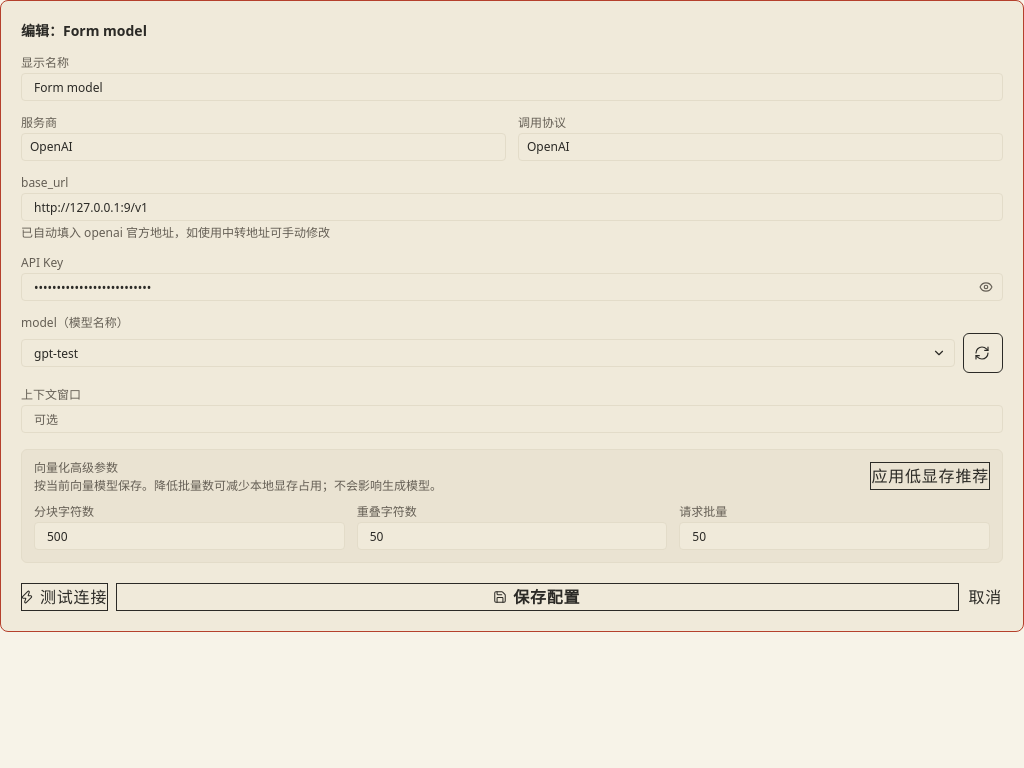
Scenario: model connection test result (#484) › keeps an embedding HTTP 402 diagnostic visible beyond three seconds, then clears it when the model changes
Click the button "测试连接".
click(65, 597)  # box x1=21 y1=583 x2=108 y2=611
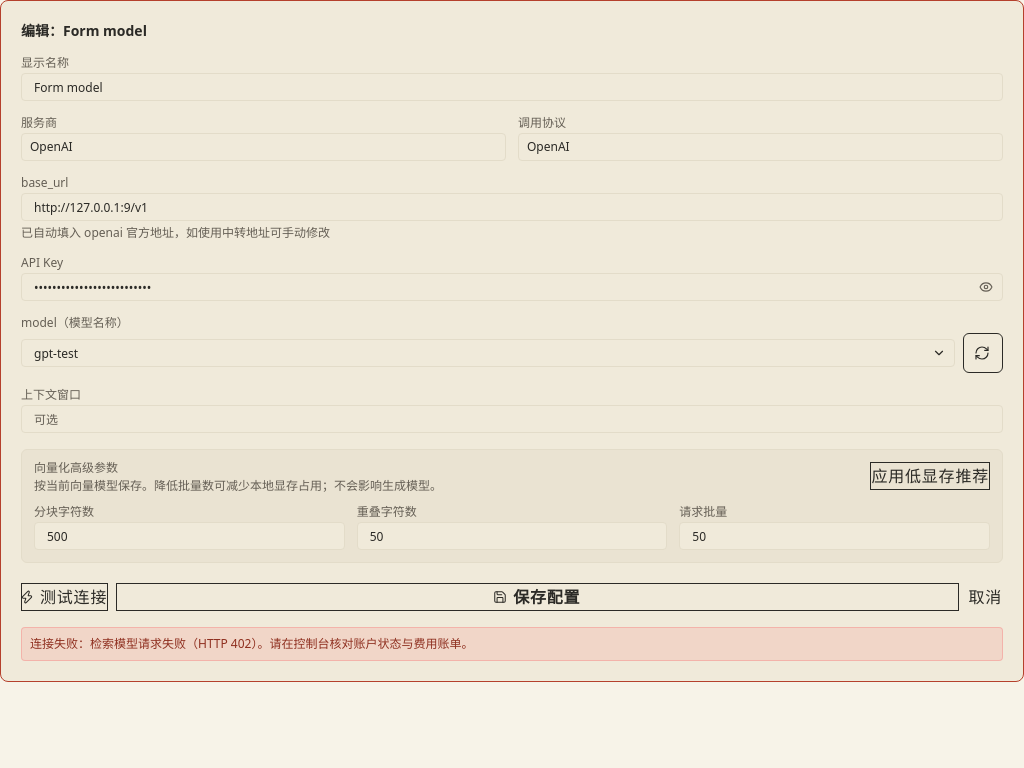
Now the text "连接失败：检索模型请求失败（HTTP 402）。请在控制台核对账户状态与费用账单。" is shown, box x1=21 y1=627 x2=1003 y2=661
Replace the text in the dropdown with placeholder "从列表选择，或直接输入模型名称" with "different-embedding-model" at (488, 353), box x1=21 y1=339 x2=955 y2=367
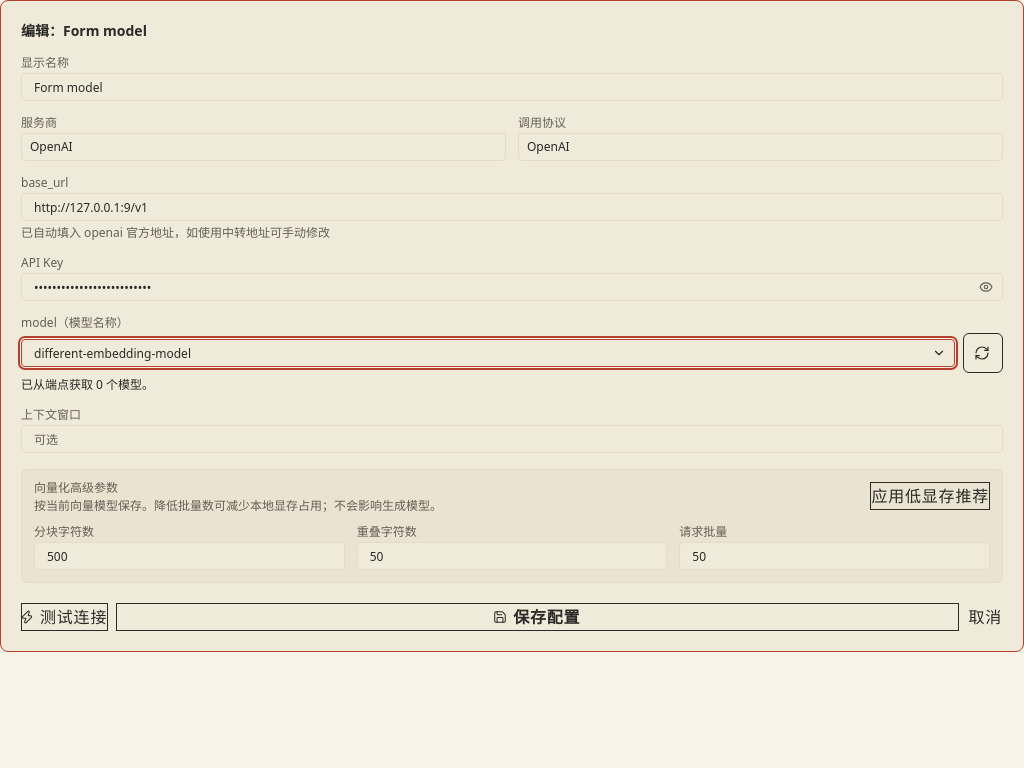
Now the text "HTTP 402" is gone
